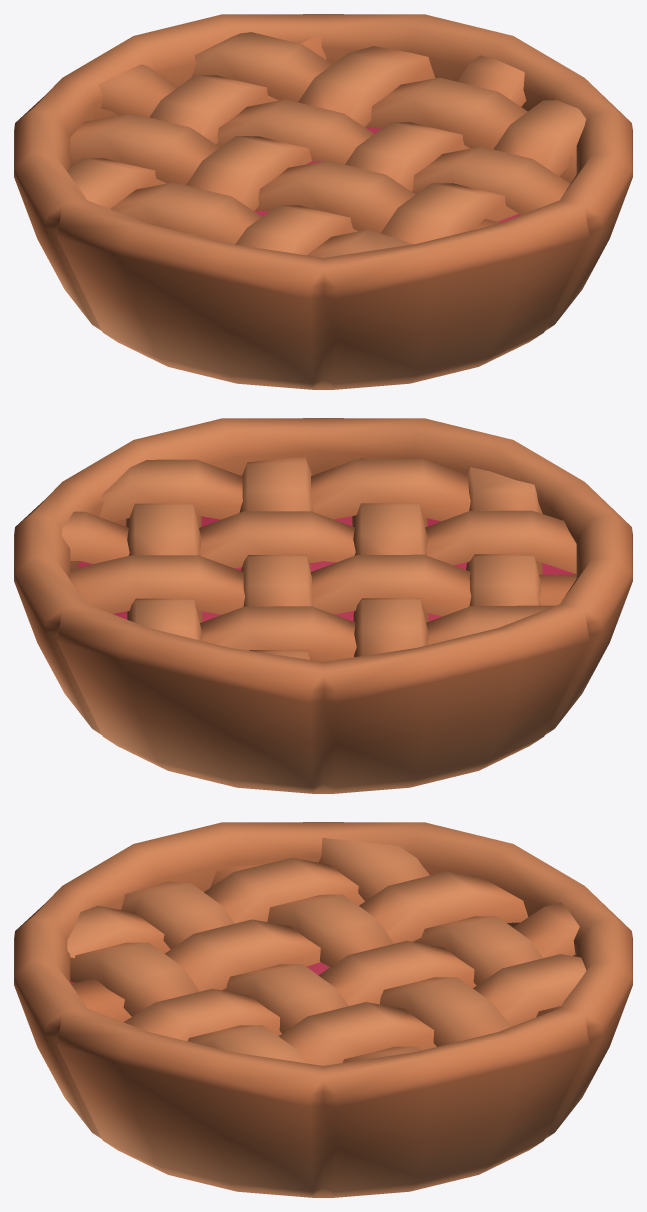
File: pie_cherry.obj
The picture shows the model from 3 angles, top to bottom: view 1: azimuth 30°, elevation 25°; view 2: azimuth 150°, elevation 25°; view 3: azimuth 270°, elevation 25°; orthographic projection.
Visible parts, largest first — view 1: pie_cherry; view 2: pie_cherry; view 3: pie_cherry.
Part boxes in pixels (bbox=[...]): pie_cherry: bbox=[14, 14, 632, 389]; pie_cherry: bbox=[14, 418, 632, 793]; pie_cherry: bbox=[14, 822, 632, 1197].
Bounding box in the file's own units: 1.16 × 0.3153 × 1.14.
Materials: 1 (1 with a texture image).
